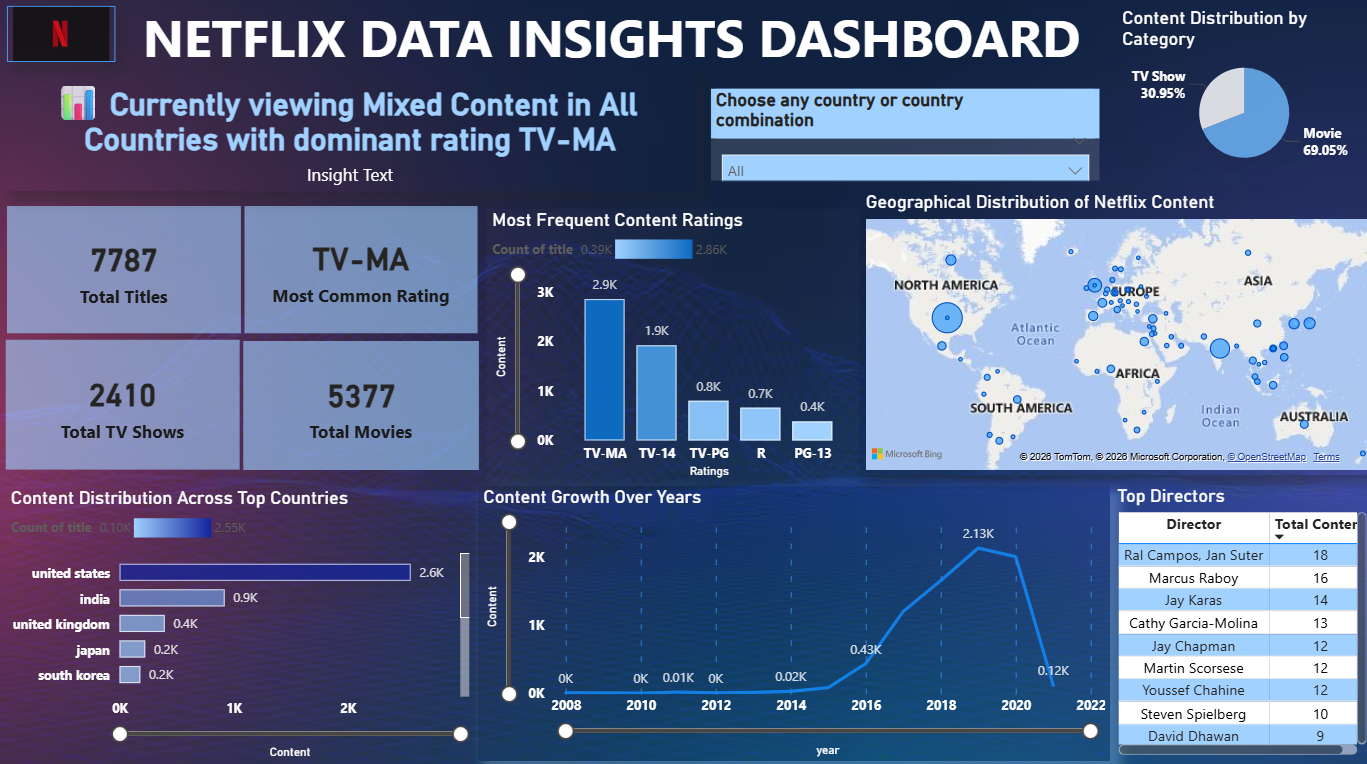

This screenshot's page, from the dashboard's own definition file:
{"tool":"powerbi","page":{"name":"Page 1","canvas":[1280,720],"ordinal":0},"visuals":[{"type":"textbox","box":[117.4,0,924.4,86],"z":0},{"type":"card","fields":{"Values":["netflix_cleaned_full (2).Total TV Shows"]},"box":[8.1,319.8,217.4,120.9],"z":1000},{"type":"card","fields":{"Values":["CountNonNull(netflix_cleaned_full.title)"]},"box":[9.3,195.3,217.4,118.6],"z":2000},{"type":"card","fields":{"Values":["netflix_cleaned_full.Most Common Rating"]},"box":[230,195,217,118],"z":3000},{"type":"card","fields":{"Values":["netflix_cleaned_full (2).Total_Movies"]},"box":[229,321,219,120],"z":4000},{"type":"barChart","title":"Content Distribution Across Top Countries","fields":{"Category":["netflix_cleaned_full.country"],"Y":["CountNonNull(netflix_cleaned_full.title)"]},"box":[8.1,457,436,257],"z":5000},{"type":"pieChart","title":"Content Distribution by Category","fields":{"Y":["CountNonNull(netflix_cleaned_full.title)"],"Category":["netflix_cleaned_full (2).category"]},"box":[1041.9,10.5,237.2,157],"z":6000},{"type":"lineChart","title":"Content Growth Over Years","fields":{"Category":["netflix_cleaned_full (2).year"],"Y":["Count(netflix_cleaned_full (2).title)"]},"box":[447.7,455.8,588.4,255.8],"z":7000},{"type":"columnChart","title":"Most Frequent Content Ratings","fields":{"Category":["netflix_cleaned_full (2).rating"],"Y":["Count(netflix_cleaned_full (2).title)"]},"box":[455.8,197.7,346.5,255.8],"z":8000},{"type":"slicer","title":"Choose any country or country combination","fields":{"Values":["netflix_cleaned_full.country"]},"box":[663.5,85.7,361.8,85.7],"z":9000},{"type":"tableEx","title":"Top Directors","fields":{"Values":["netflix_cleaned_full (2).director","netflix_cleaned_full (2).title"]},"box":[1037.2,454.7,241.9,255.8],"z":10000},{"type":"map","title":"Geographical Distribution of Netflix Content","fields":{"Category":["netflix_cleaned_full (2).country"],"Size":["CountNonNull(netflix_cleaned_full (2).title)"]},"box":[803.5,181.4,475.6,264],"z":11000},{"type":"image","box":[9.3,9.3,101.2,52.3],"z":12000},{"type":"card","fields":{"Values":["netflix_cleaned_full (2).Insight_Text"]},"box":[8,70,641,111],"z":13000}]}

Visuals, with their boxes in screenshot pixels (x1, y1, x2, y2), scaled from the page's 1280x720 canvas onto the 1367x764 screenshot:
textbox: (125,0,1113,91)
card - netflix_cleaned_full (2).Total TV Shows: (9,339,241,468)
card - CountNonNull(netflix_cleaned_full.title): (10,207,242,333)
card - netflix_cleaned_full.Most Common Rating: (246,207,477,332)
card - netflix_cleaned_full (2).Total_Movies: (245,341,478,468)
"Content Distribution Across Top Countries" barChart: (9,485,474,758)
"Content Distribution by Category" pieChart: (1113,11,1366,178)
"Content Growth Over Years" lineChart: (478,484,1107,755)
"Most Frequent Content Ratings" columnChart: (487,210,857,481)
"Choose any country or country combination" slicer: (709,91,1095,182)
"Top Directors" tableEx: (1108,482,1366,754)
"Geographical Distribution of Netflix Content" map: (858,192,1366,473)
image: (10,10,118,65)
card - netflix_cleaned_full (2).Insight_Text: (9,74,693,192)
